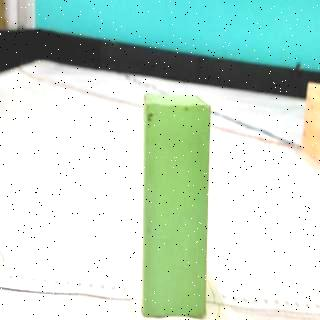greenbox: (142, 92, 212, 320)
